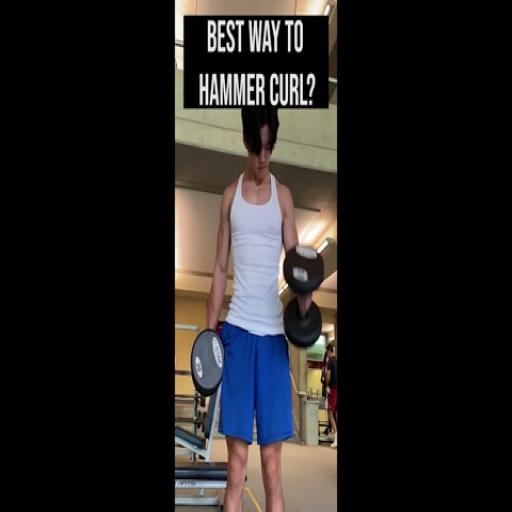exercise: (202, 102, 322, 510)
